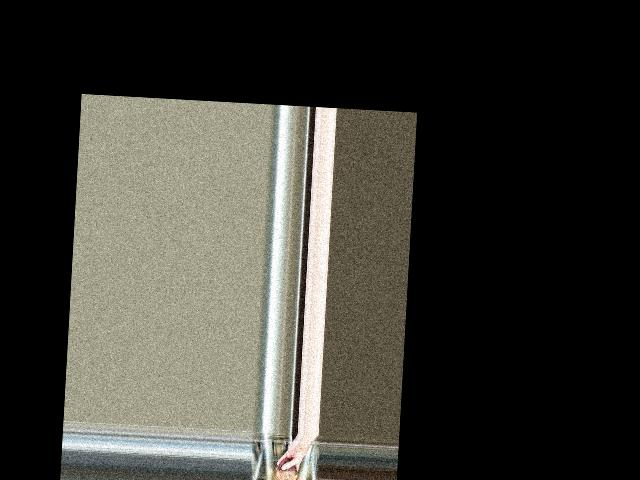beet: (274, 457, 298, 480)
